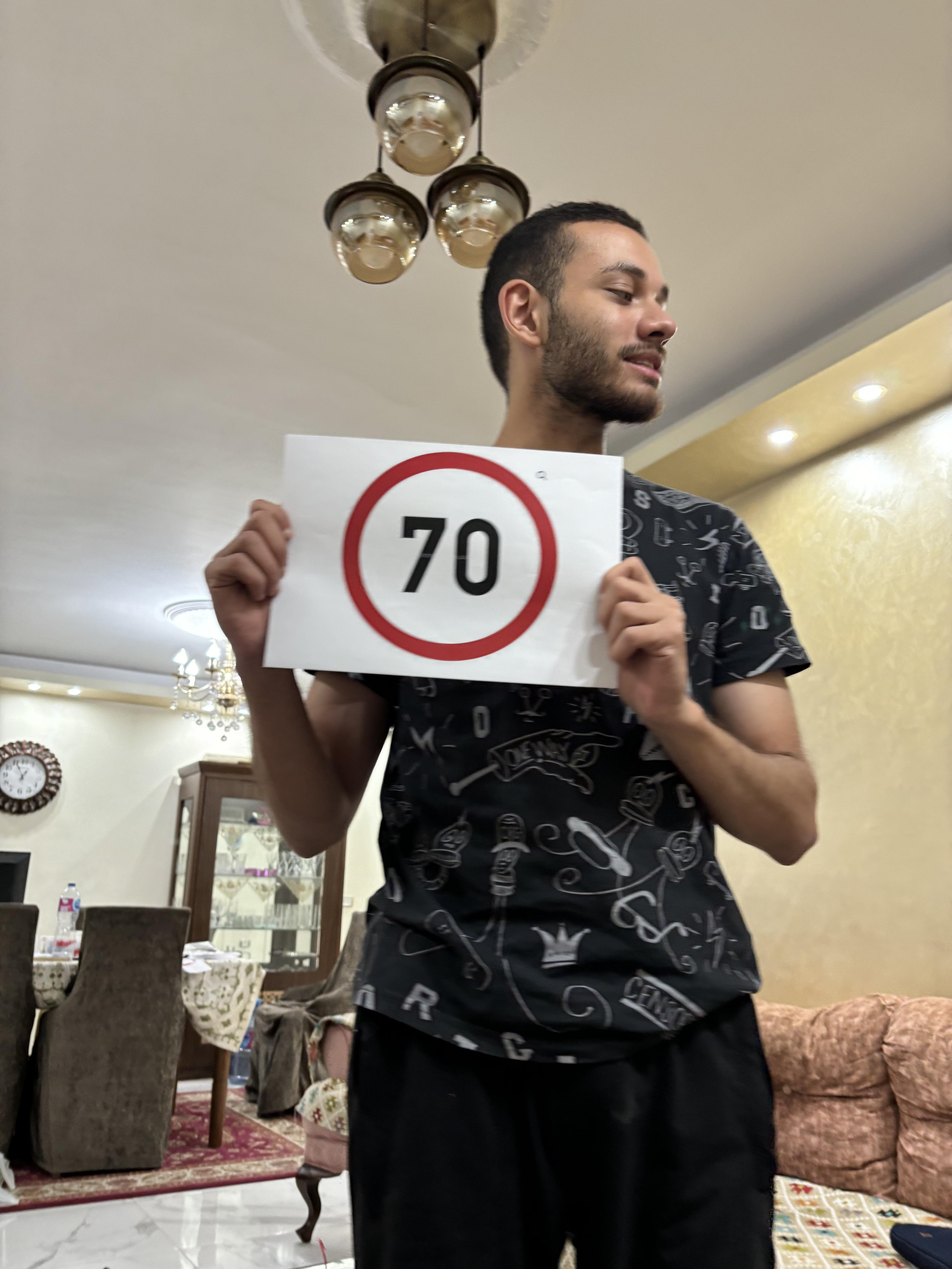70-Speed: (337, 447, 560, 666)
